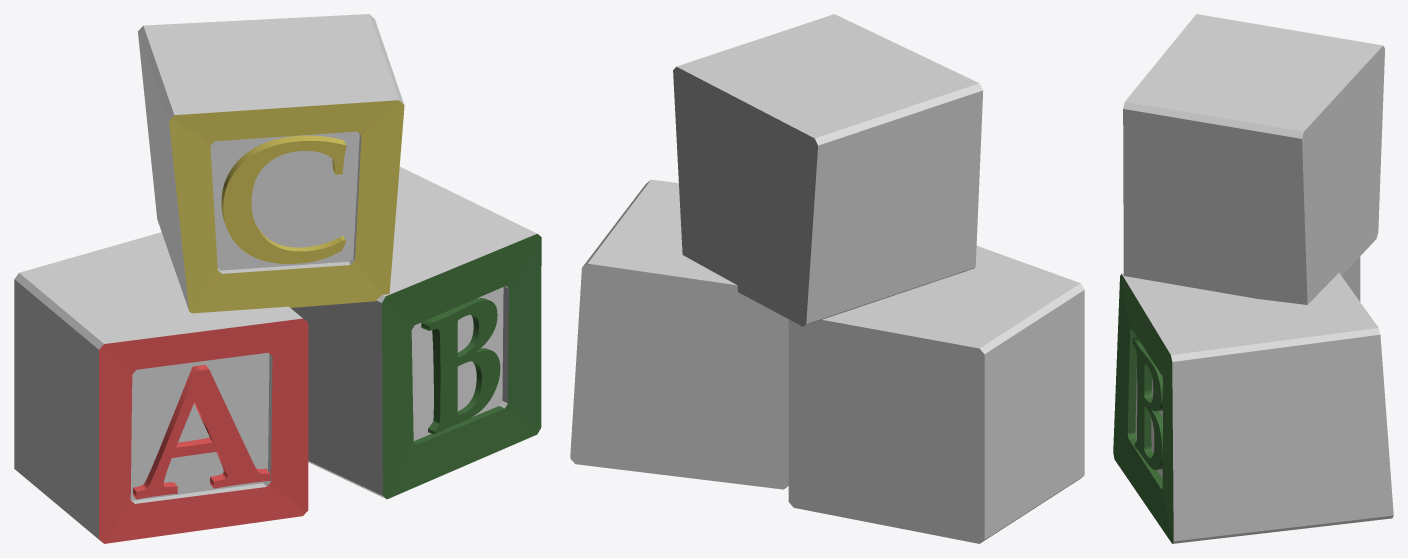
File: abcblocks_wmat.fbx
3 views of the same model, side by side, from view 1: azimuth 30°, elevation 25°; view 2: azimuth 150°, elevation 25°; view 3: azimuth 270°, elevation 25° (orthographic). The views are drawn at different scales.
Parts seen in each view (by area): view 1: A, C, B, At, Ct, Bt; view 2: C, A, B; view 3: C, B, Bt, A.
Boxes of the visible parts, x1,y1,x2,y2 form: A: [14, 232, 308, 543]; C: [138, 14, 404, 313]; B: [291, 167, 541, 499]; At: [133, 364, 270, 499]; Ct: [221, 135, 346, 263]; Bt: [421, 298, 500, 434]; C: [673, 14, 983, 326]; A: [788, 246, 1084, 543]; B: [570, 179, 788, 489]; C: [1123, 14, 1384, 304]; B: [1113, 273, 1393, 543]; Bt: [1132, 337, 1162, 469]; A: [1342, 256, 1360, 301].
Size of the model in its own units: 467 by 396 by 272.
